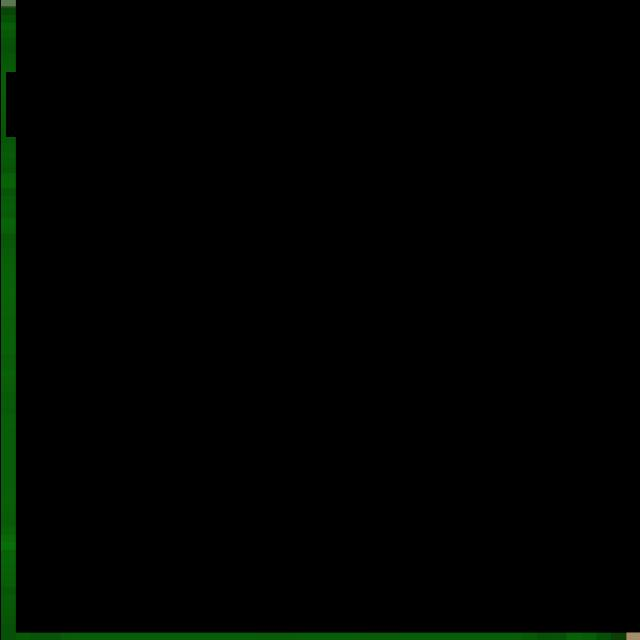nofire: (0, 6, 626, 640)
